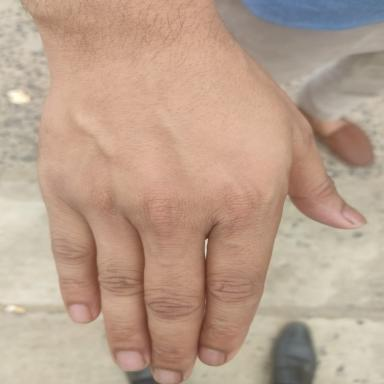normal skin: (23, 0, 365, 384)
